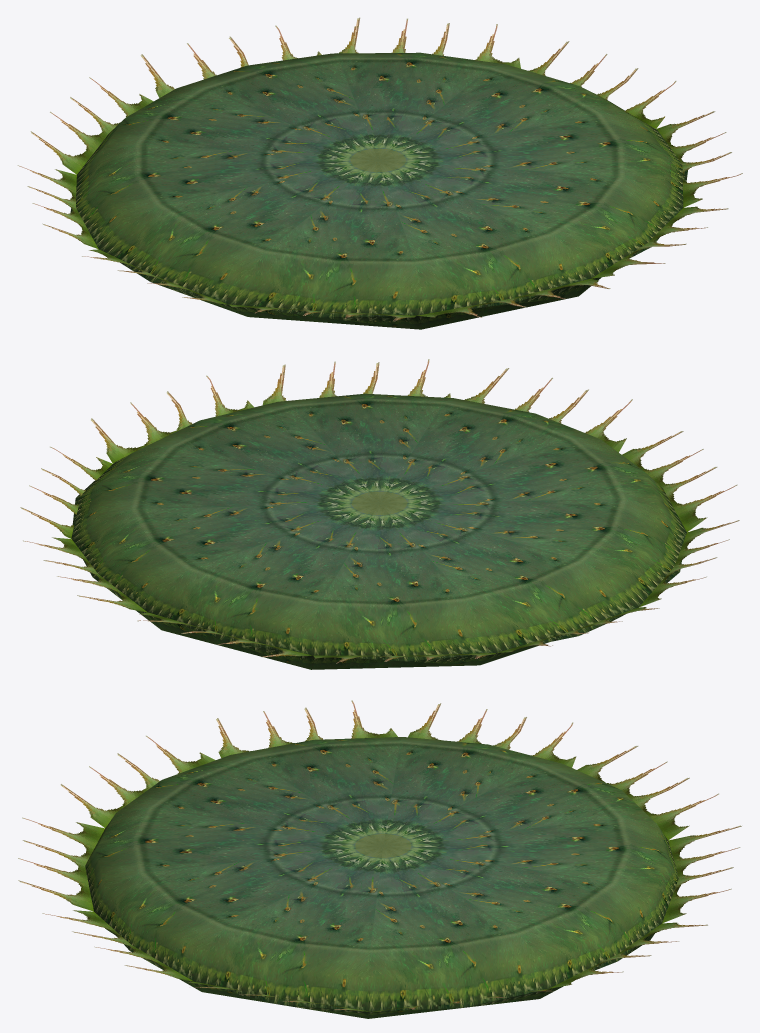
File: CactusPlatform.gltf
3 views of the same model, one above another, from view 1: azimuth 30°, elevation 25°; view 2: azimuth 150°, elevation 25°; view 3: azimuth 270°, elevation 25° (orthographic).
Parts seen in each view (by area): view 1: CactusPlatform; view 2: CactusPlatform; view 3: CactusPlatform.
Boxes of the visible parts, <box> form: CactusPlatform: <box>17,17,742,329</box>; CactusPlatform: <box>20,359,739,669</box>; CactusPlatform: <box>18,700,741,1018</box>.
Size of the model in its own units: 4.92 by 0.6192 by 4.85.
2 materials, 2 textured.
